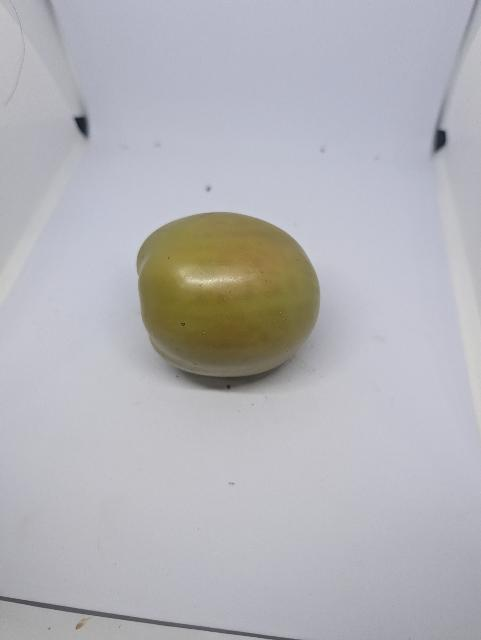breaker: (134, 208, 325, 385)
